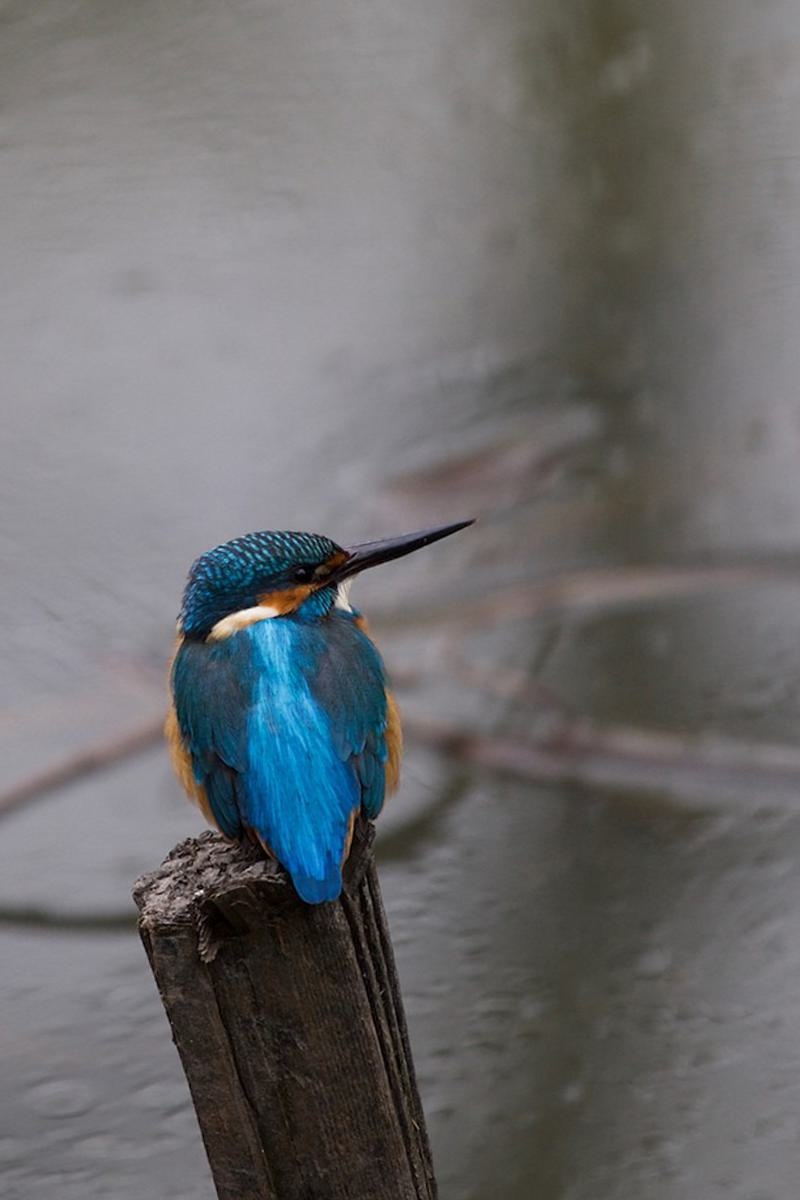kingfisher: (160, 464, 490, 924)
